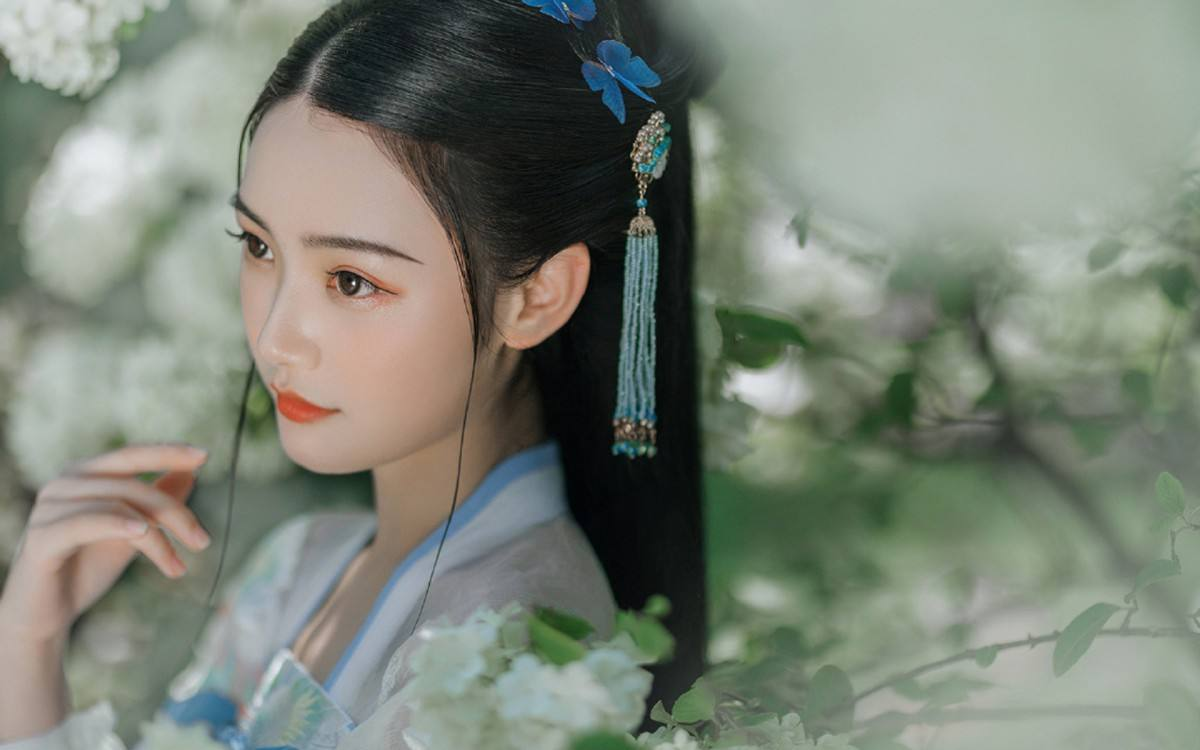person: (204, 32, 712, 665)
